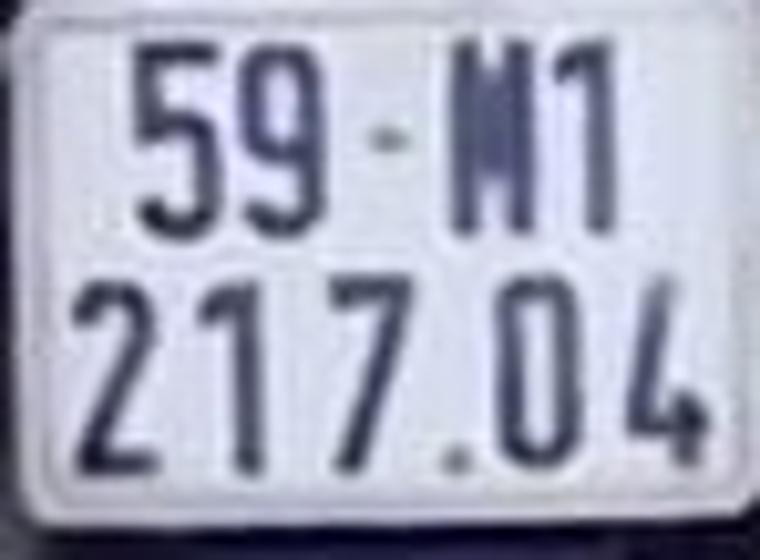-: (357, 118, 419, 167)
.: (438, 442, 477, 479)
0: (488, 269, 585, 473)
1: (196, 269, 273, 480), (554, 34, 629, 236)
2: (63, 277, 169, 479)
4: (616, 274, 714, 477)
5: (123, 37, 235, 248)
7: (319, 267, 416, 480)
9: (238, 34, 333, 244)
M: (439, 35, 551, 240)
